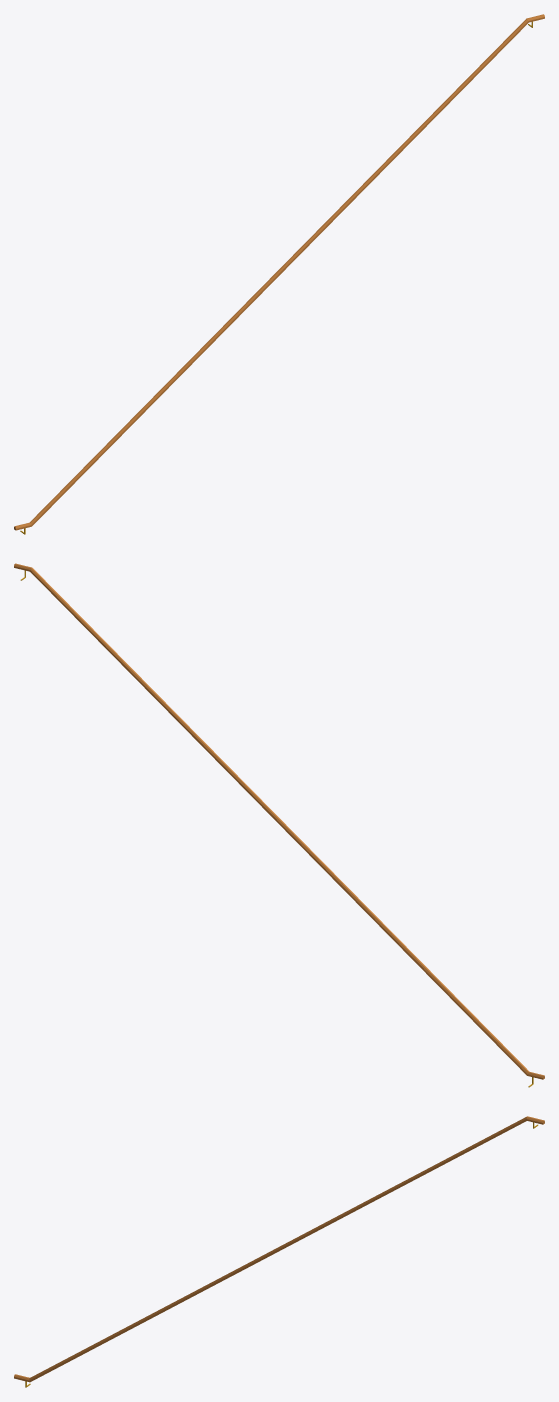
File: stairs_rail.obj
3 views of the same model, one above another, from view 1: azimuth 30°, elevation 25°; view 2: azimuth 150°, elevation 25°; view 3: azimuth 330°, elevation 25° (orthographic).
Visible parts, largest first — view 1: 1_1; view 2: 1_1; view 3: 1_1.
Boxes of the visible parts, bbox=[...] form: 1_1: bbox=[14, 14, 544, 530]; 1_1: bbox=[14, 563, 544, 1079]; 1_1: bbox=[14, 1116, 544, 1382].
Size of the model in its own units: 330 by 234 by 5.99.
